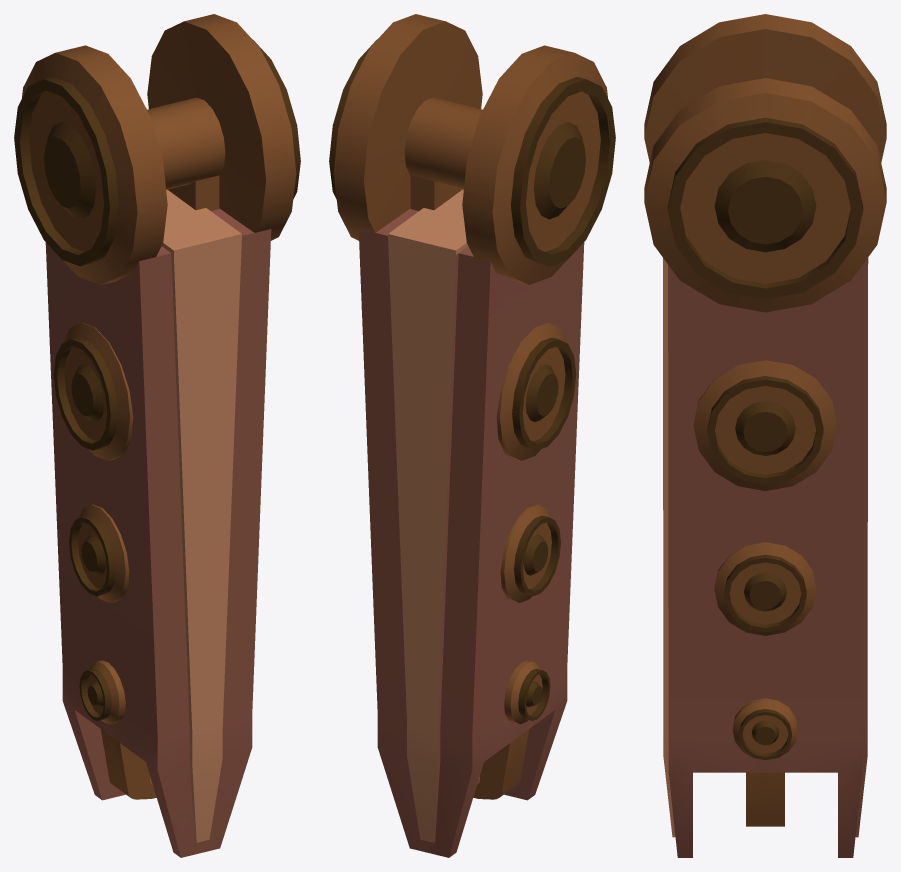
The model's file is Onder Been Poot Links voor.fbx.
3 renders of one model, left to right at view 1: azimuth 30°, elevation 25°; view 2: azimuth 150°, elevation 25°; view 3: azimuth 270°, elevation 25°, orthographic.
Parts seen in each view (by area): view 1: Onderbeen.001; view 2: Onderbeen.001; view 3: Onderbeen.001.
Boxes of the visible parts, x1,y1,x2,y2 form: Onderbeen.001: (14,14,300,857); Onderbeen.001: (329,14,615,857); Onderbeen.001: (644,14,886,857).
Size of the model in its own units: 586 by 2287 by 632.
